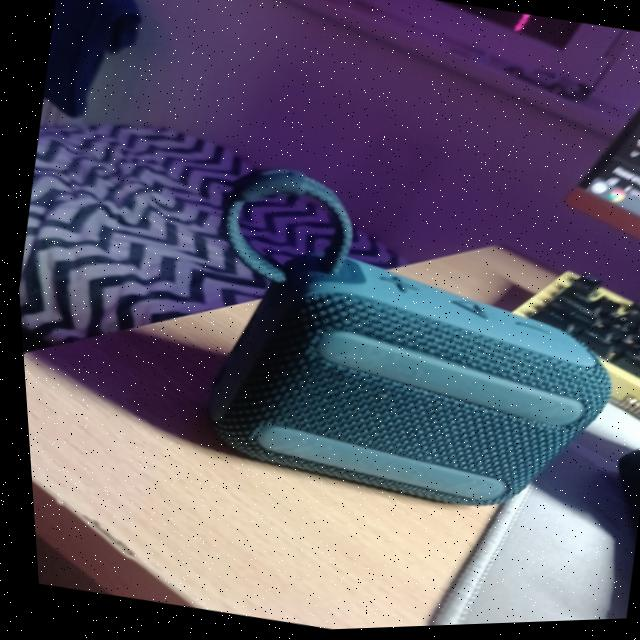column JBL: (142, 142, 640, 559)
